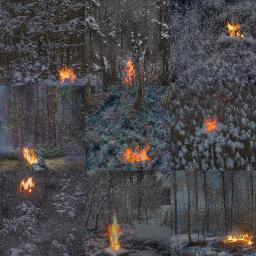Small fire: (117, 143, 167, 170), (103, 209, 130, 255), (45, 58, 88, 86), (17, 139, 52, 171), (218, 225, 256, 253), (196, 110, 230, 140), (220, 15, 249, 48), (117, 55, 142, 93), (6, 173, 43, 195)
